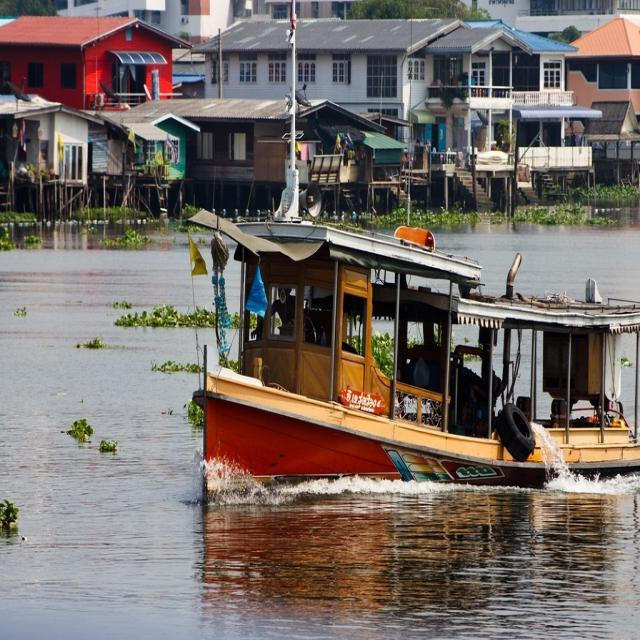Hyacinth: (104, 288, 248, 339), (557, 172, 640, 210), (516, 192, 584, 235), (59, 412, 114, 456), (395, 200, 471, 230), (0, 216, 43, 265), (99, 228, 154, 256), (66, 336, 112, 356), (95, 438, 132, 458)
boat: (175, 199, 640, 506)
